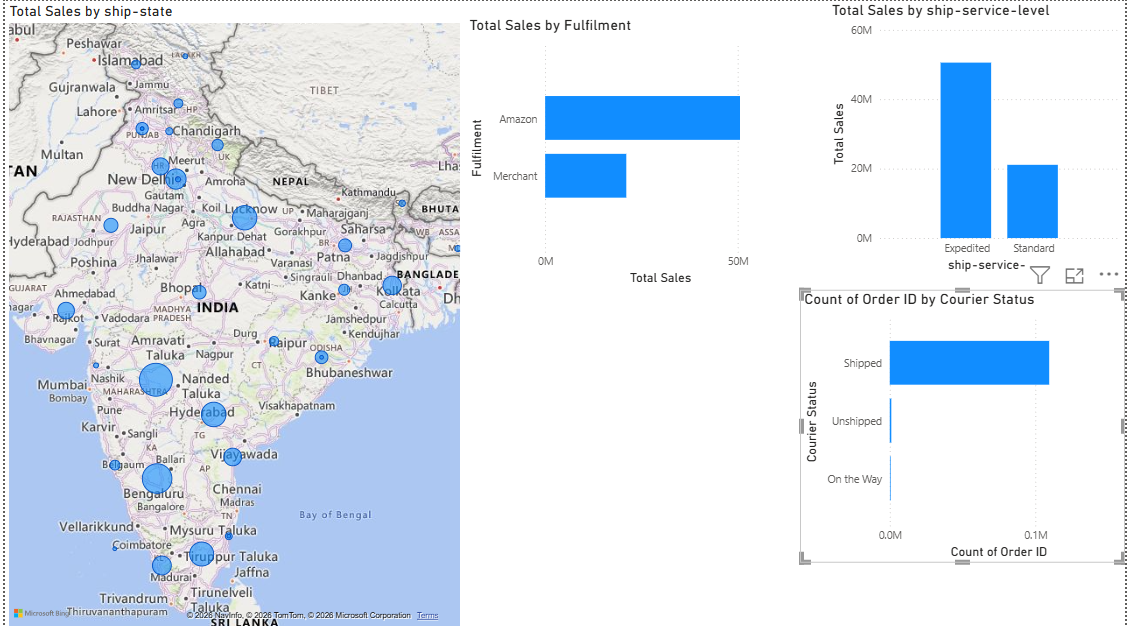

The page's visual inventory and layout, read from the dashboard file:
{"tool":"powerbi","page":{"name":"Page 3","canvas":[1280,720],"ordinal":2},"visuals":[{"type":"barChart","fields":{"Category":["Amazon Sale Report.Fulfilment"],"Y":["Amazon Sale Report.Total Sales"]},"box":[525.7,17.1,372.9,312.9],"z":0},{"type":"barChart","fields":{"Category":["Amazon Sale Report.Courier Status"],"Y":["CountNonNull(Amazon Sale Report.Order ID)"]},"box":[908.6,330,371.4,312.9],"z":1000},{"type":"map","fields":{"Size":["Amazon Sale Report.Total Sales"],"Category":["Amazon Sale Report.ship-state"]},"box":[0,1.5,525.4,717.9],"z":2000},{"type":"columnChart","fields":{"Category":["Amazon Sale Report.ship-service-level"],"Y":["Amazon Sale Report.Total Sales"]},"box":[940.3,0,340.3,314.9],"z":3000}]}

Visuals, with their boxes in screenshot pixels (x1, y1, x2, y2), scaled from the page's 1280x720 canvas onto the 1131x626 screenshot:
barChart - Amazon Sale Report.Fulfilment x Amazon Sale Report.Total Sales: box=[465, 15, 794, 287]
barChart - Amazon Sale Report.Courier Status x CountNonNull(Amazon Sale Report.Order ID): box=[803, 287, 1130, 559]
map - Amazon Sale Report.Total Sales x Amazon Sale Report.ship-state: box=[0, 1, 464, 625]
columnChart - Amazon Sale Report.ship-service-level x Amazon Sale Report.Total Sales: box=[831, 0, 1130, 274]
